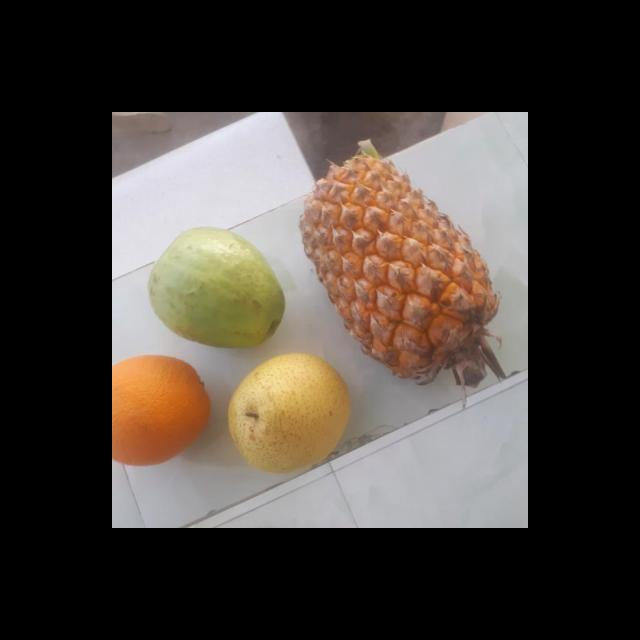guava: (152, 231, 288, 345)
orange: (112, 352, 212, 466)
pear: (224, 353, 358, 474)
pineapple: (306, 164, 496, 382)
